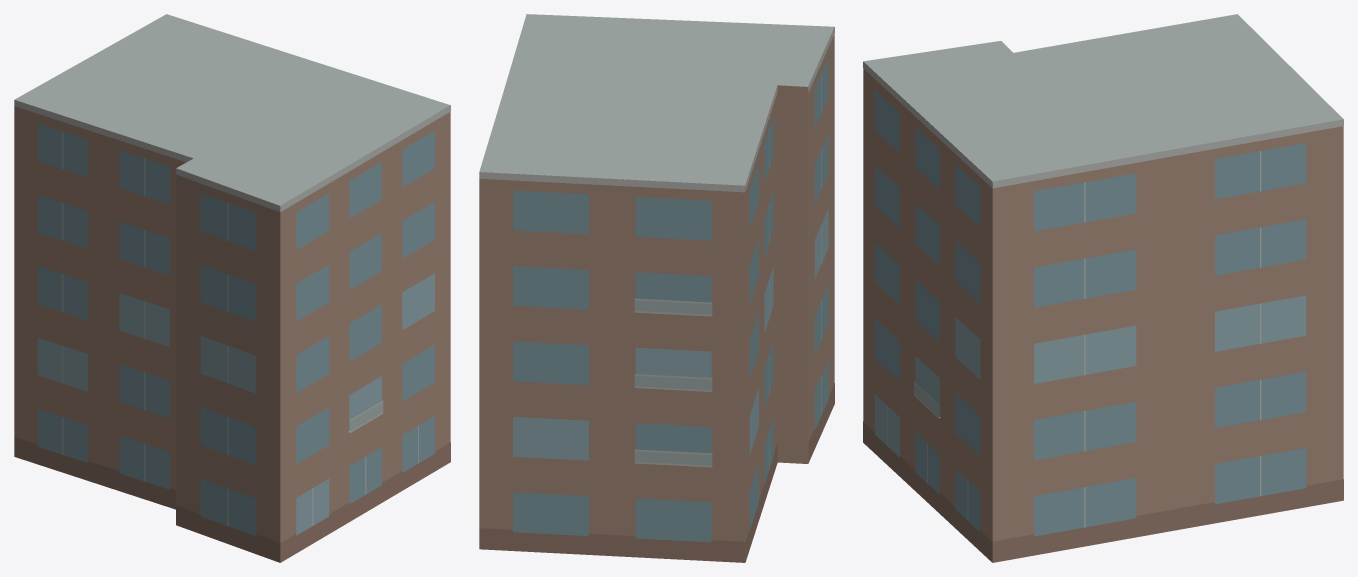
File: survey-upis-32646687.glb
3 renders of one model, left to right at view 1: azimuth 30°, elevation 25°; view 2: azimuth 150°, elevation 25°; view 3: azimuth 270°, elevation 25°, orthographic. The views are drawn at different scales.
Visible parts, largest first — view 1: survey-upis-32646687.tmp; view 2: survey-upis-32646687.tmp; view 3: survey-upis-32646687.tmp.
Part boxes in pixels (x1=…): survey-upis-32646687.tmp: x1=14, y1=14, x2=450, y2=562; survey-upis-32646687.tmp: x1=479, y1=14, x2=834, y2=562; survey-upis-32646687.tmp: x1=863, y1=14, x2=1343, y2=562.
Bounding box in the file's own units: 13.03 × 13.8 × 15.78.
